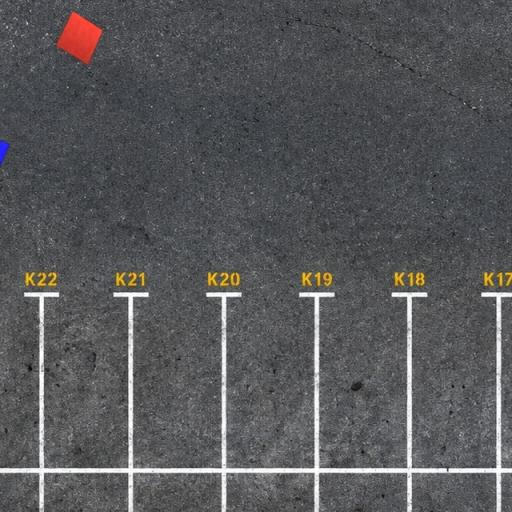RED_SQUARE: (55, 10, 104, 66)
